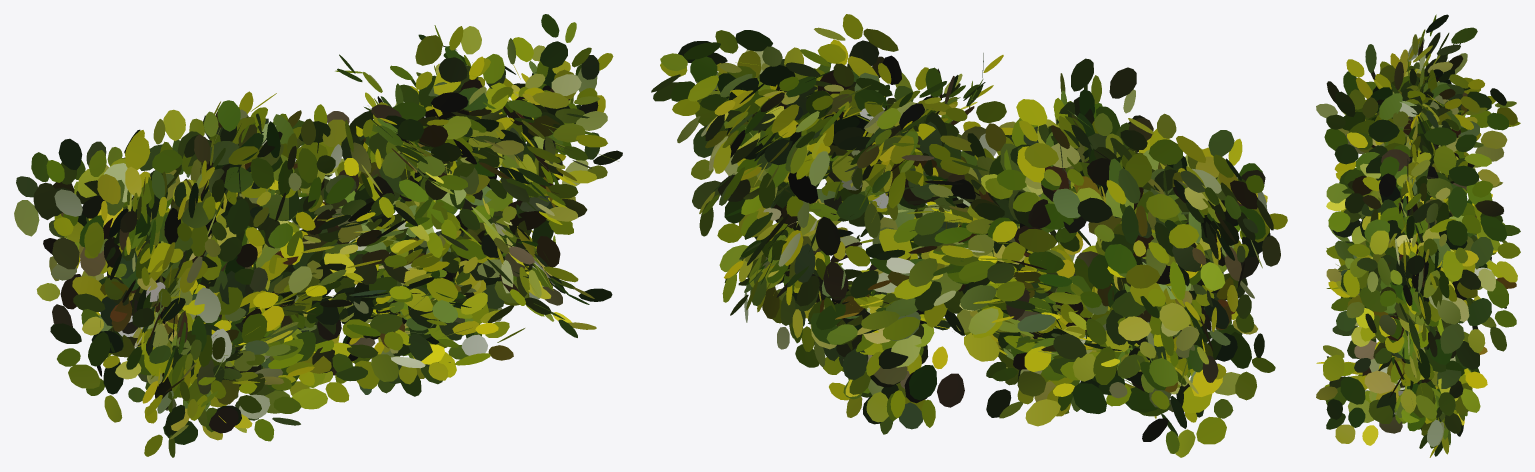
File: bush.glb
3 views of the same model, side by side, from view 1: azimuth 30°, elevation 25°; view 2: azimuth 150°, elevation 25°; view 3: azimuth 270°, elevation 25° (orthographic). The views are drawn at different scales.
Visible parts, largest first — view 1: bushs; view 2: bushs; view 3: bushs.
Boxes of the visible parts, <box> form: bushs: <box>14,14,622,457</box>; bushs: <box>651,14,1287,457</box>; bushs: <box>1316,14,1520,457</box>.
Size of the model in its own units: 7.88 by 4.79 by 2.74.
1 material, 1 textured.
